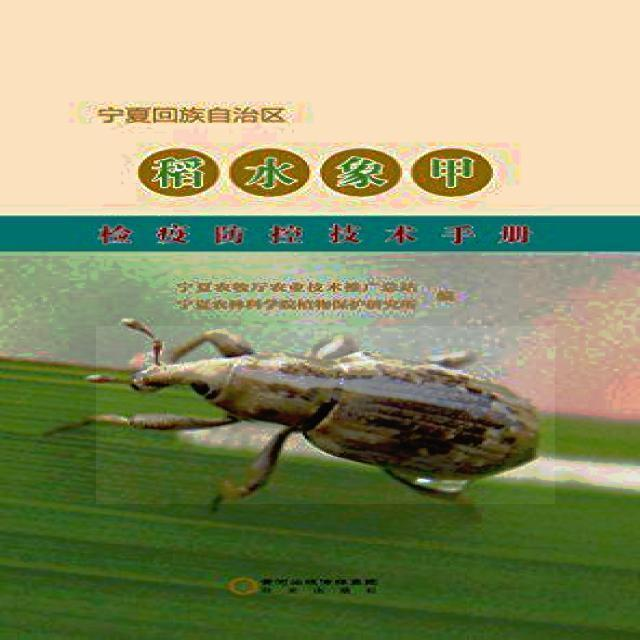rice-bug: (96, 326, 555, 504)
